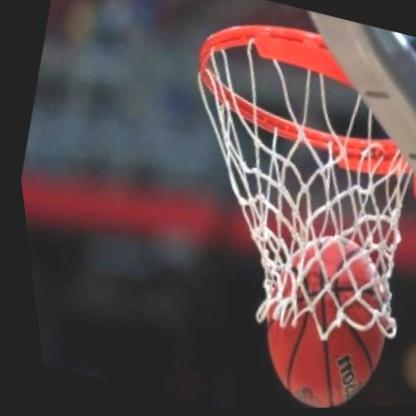basketball: (229, 221, 404, 411)
rim: (130, 6, 416, 359)
